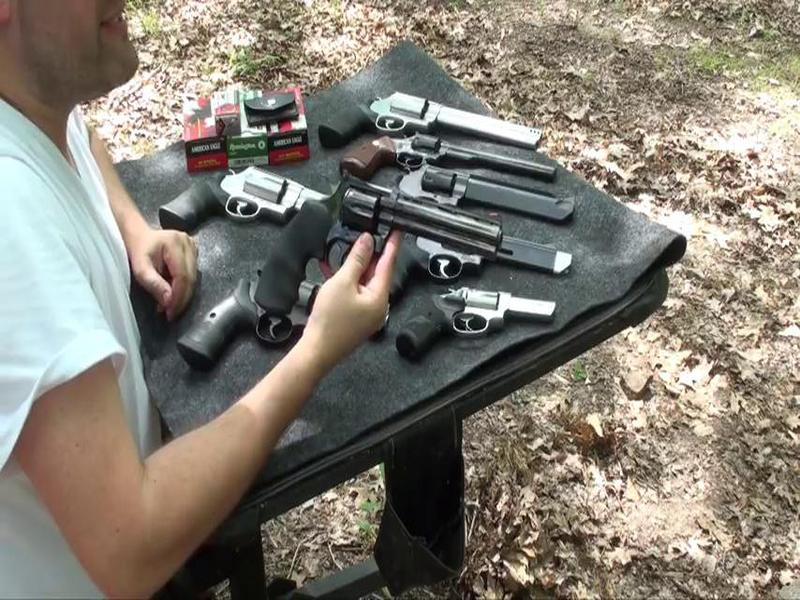Revolver: (265, 147, 509, 326)
